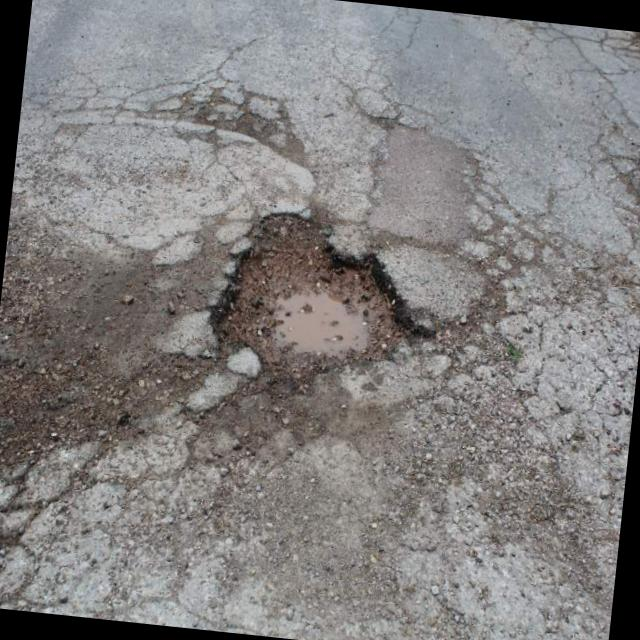Potholes: (184, 184, 442, 410)
